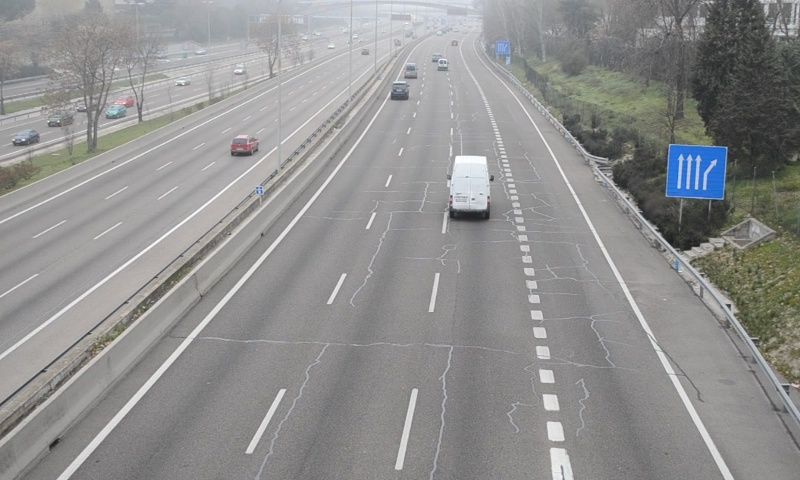car: (391, 82, 408, 98)
van: (448, 155, 491, 221), (404, 61, 417, 80)
